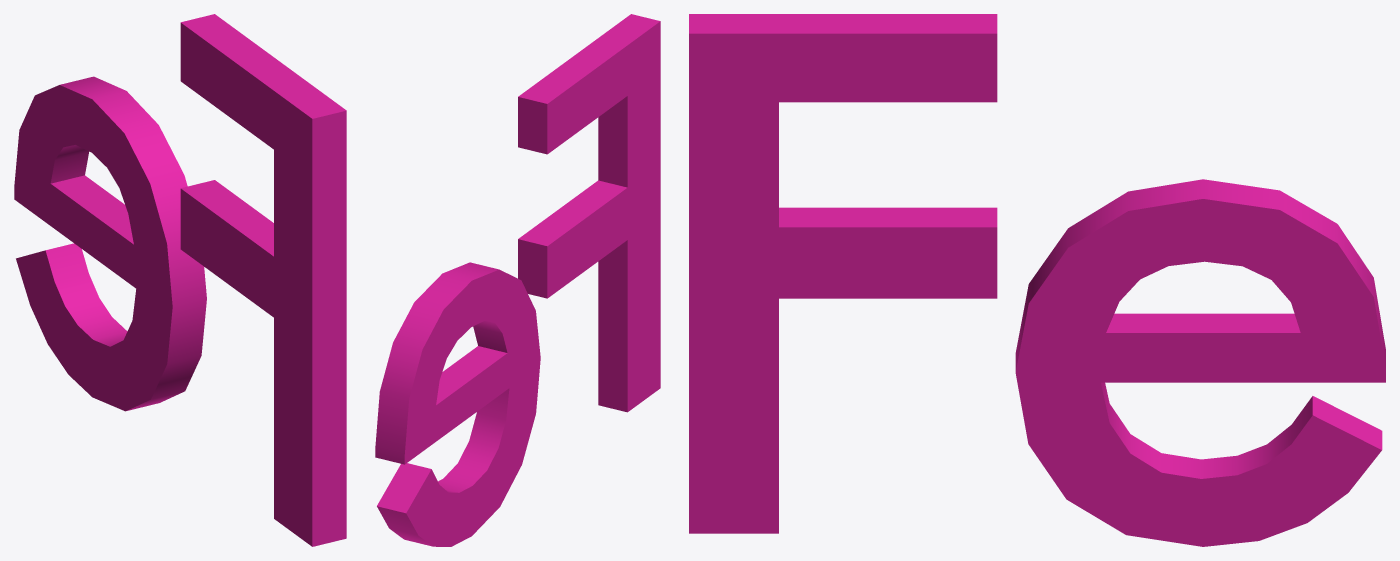
3 renders of one model, left to right at view 1: azimuth 30°, elevation 25°; view 2: azimuth 150°, elevation 25°; view 3: azimuth 270°, elevation 25°, orthographic. The views are drawn at different scales.
Visible parts, largest first — view 1: Fe; view 2: Fe; view 3: Fe.
Boxes of the visible parts, box(x1,y1,x2,y2) form: Fe: box(14, 14, 346, 546); Fe: box(375, 14, 660, 546); Fe: box(689, 14, 1385, 546).
Size of the model in its own units: 0.7384 by 9.04 by 11.12.
